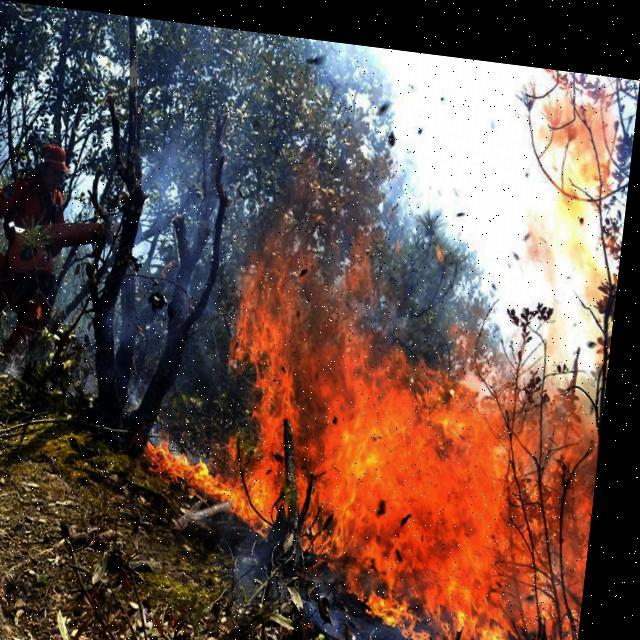Fire: (219, 229, 619, 639)
